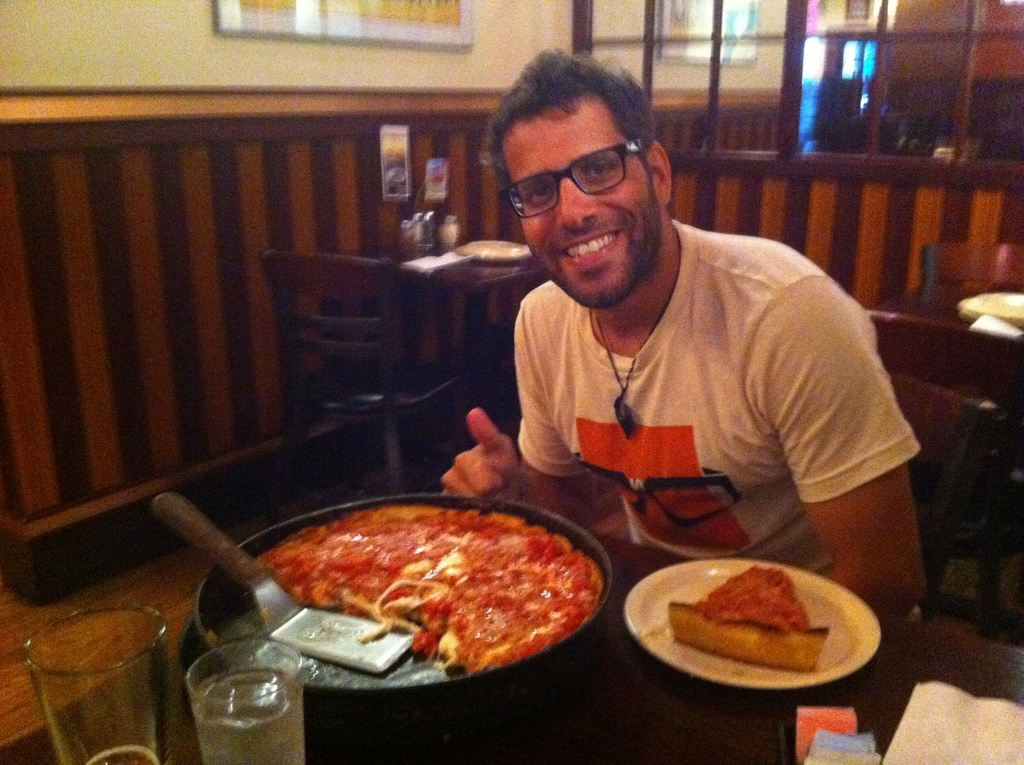Pizza: (241, 502, 618, 670), (672, 564, 844, 671)
